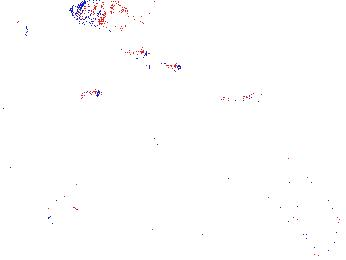X-ray fish: (66, 1, 146, 35)
glassfish: (79, 125, 182, 191), (1, 9, 36, 40)
red belly glassfish: (100, 43, 150, 62), (57, 86, 103, 102), (146, 56, 183, 73), (219, 92, 254, 109)
